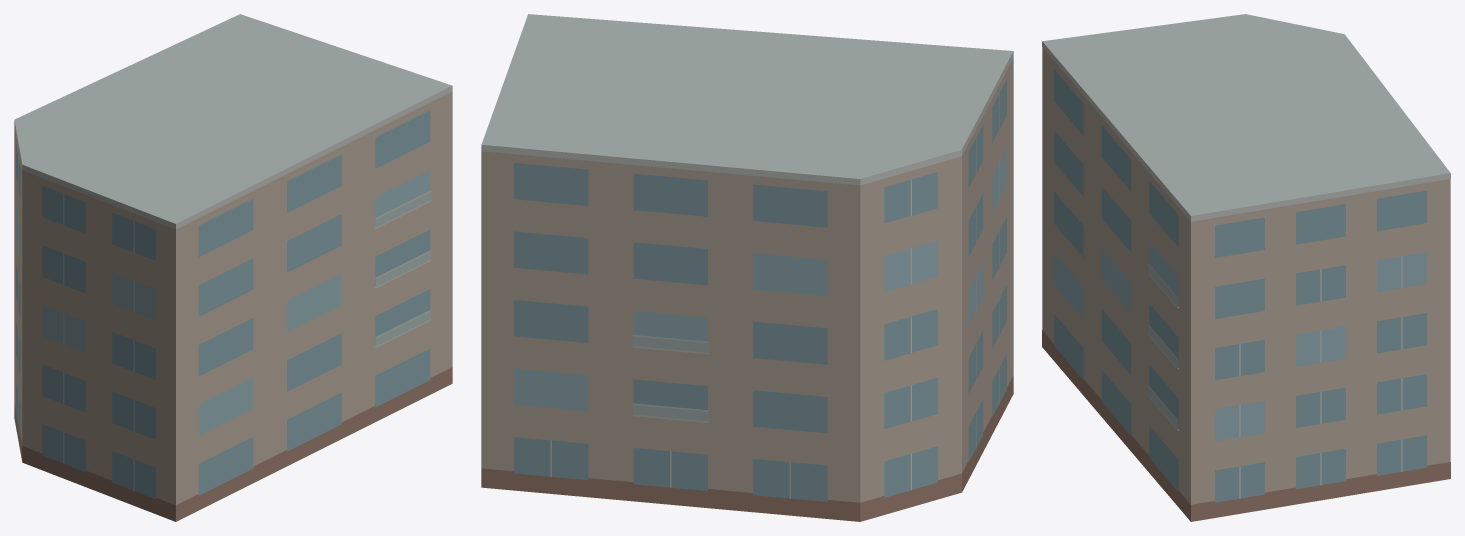
File: survey-upis-32999095.glb
The picture shows the model from 3 angles, left to right: view 1: azimuth 30°, elevation 25°; view 2: azimuth 150°, elevation 25°; view 3: azimuth 270°, elevation 25°; orthographic projection. The views are drawn at different scales.
Parts seen in each view (by area): view 1: survey-upis-32999095.tmp; view 2: survey-upis-32999095.tmp; view 3: survey-upis-32999095.tmp.
Part boxes in pixels (<box>): survey-upis-32999095.tmp: <box>14,14,452,521</box>; survey-upis-32999095.tmp: <box>481,14,1013,521</box>; survey-upis-32999095.tmp: <box>1042,14,1450,521</box>.
Size of the model in its own units: 18.44 by 13 by 15.76.
